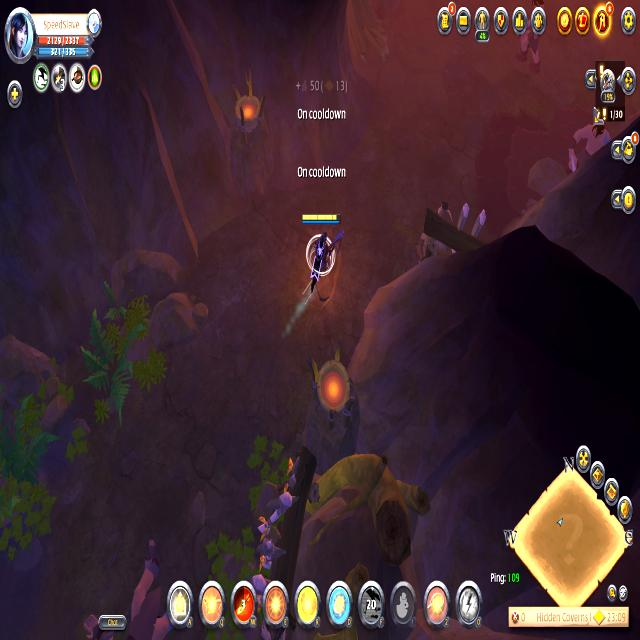ore: (514, 0, 552, 68)
red: (296, 206, 348, 294)
